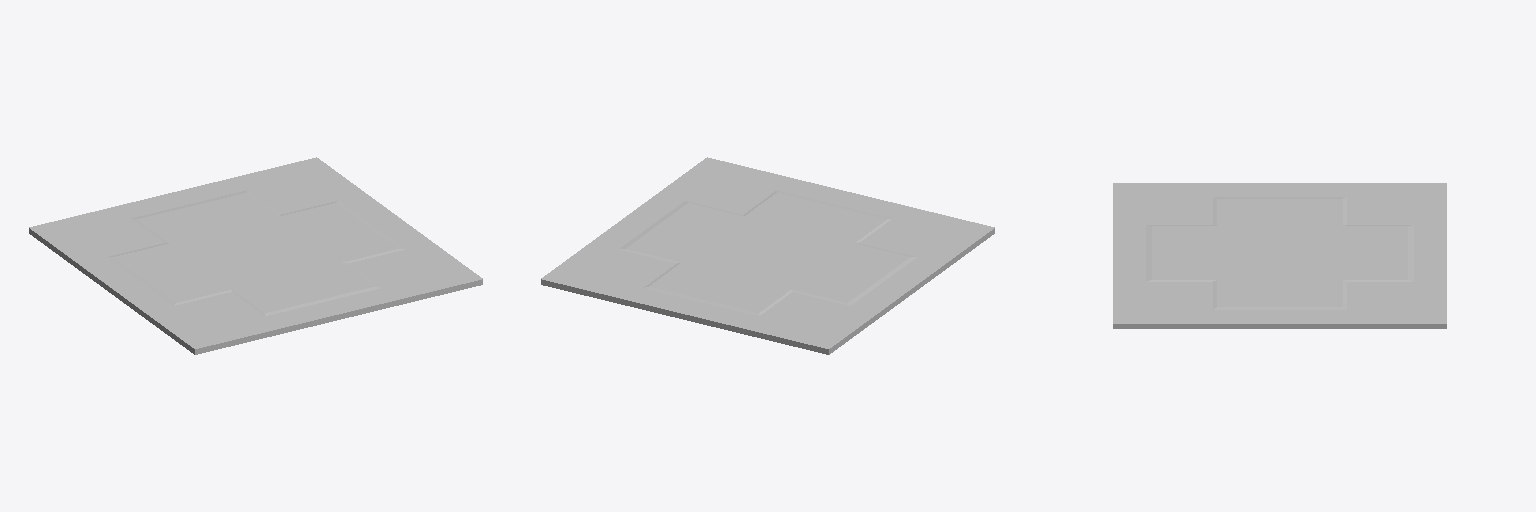
File: Floor_Medbay_Large.obj
The picture shows the model from 3 angles: view 1: azimuth 30°, elevation 25°; view 2: azimuth 150°, elevation 25°; view 3: azimuth 270°, elevation 25°; orthographic projection.
Visible parts, largest first — view 1: Floor_Medbay_Large; view 2: Floor_Medbay_Large; view 3: Floor_Medbay_Large.
Part boxes in pixels (left/top/right/bottom): Floor_Medbay_Large: left=29, top=157, right=482, bottom=354; Floor_Medbay_Large: left=541, top=157, right=994, bottom=354; Floor_Medbay_Large: left=1113, top=183, right=1446, bottom=328.
Size of the model in its own units: 8 by 0.1606 by 8.